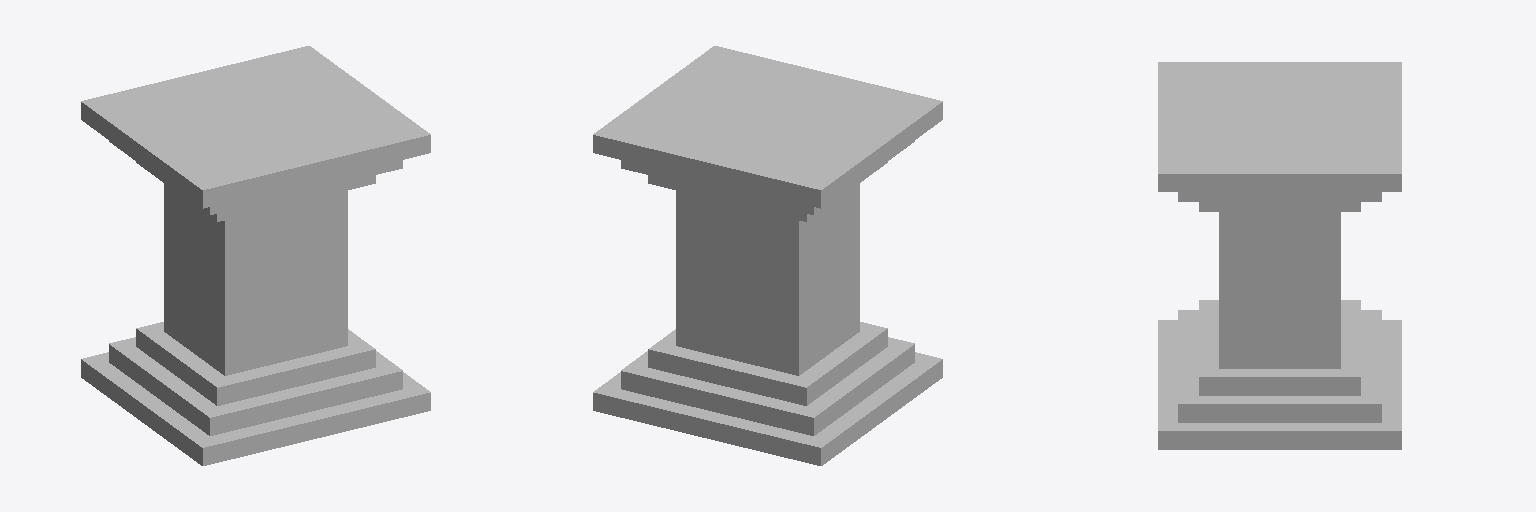
File: Pedestal.obj
The picture shows the model from 3 angles: view 1: azimuth 30°, elevation 25°; view 2: azimuth 150°, elevation 25°; view 3: azimuth 270°, elevation 25°; orthographic projection.
Parts seen in each view (by area): view 1: object 1; view 2: object 1; view 3: object 1.
Part boxes in pixels (bbox=[...]): object 1: bbox=[81, 46, 430, 465]; object 1: bbox=[593, 46, 942, 465]; object 1: bbox=[1158, 62, 1401, 449].
Bounding box in the file's own units: 1.3 × 1.5 × 1.2.